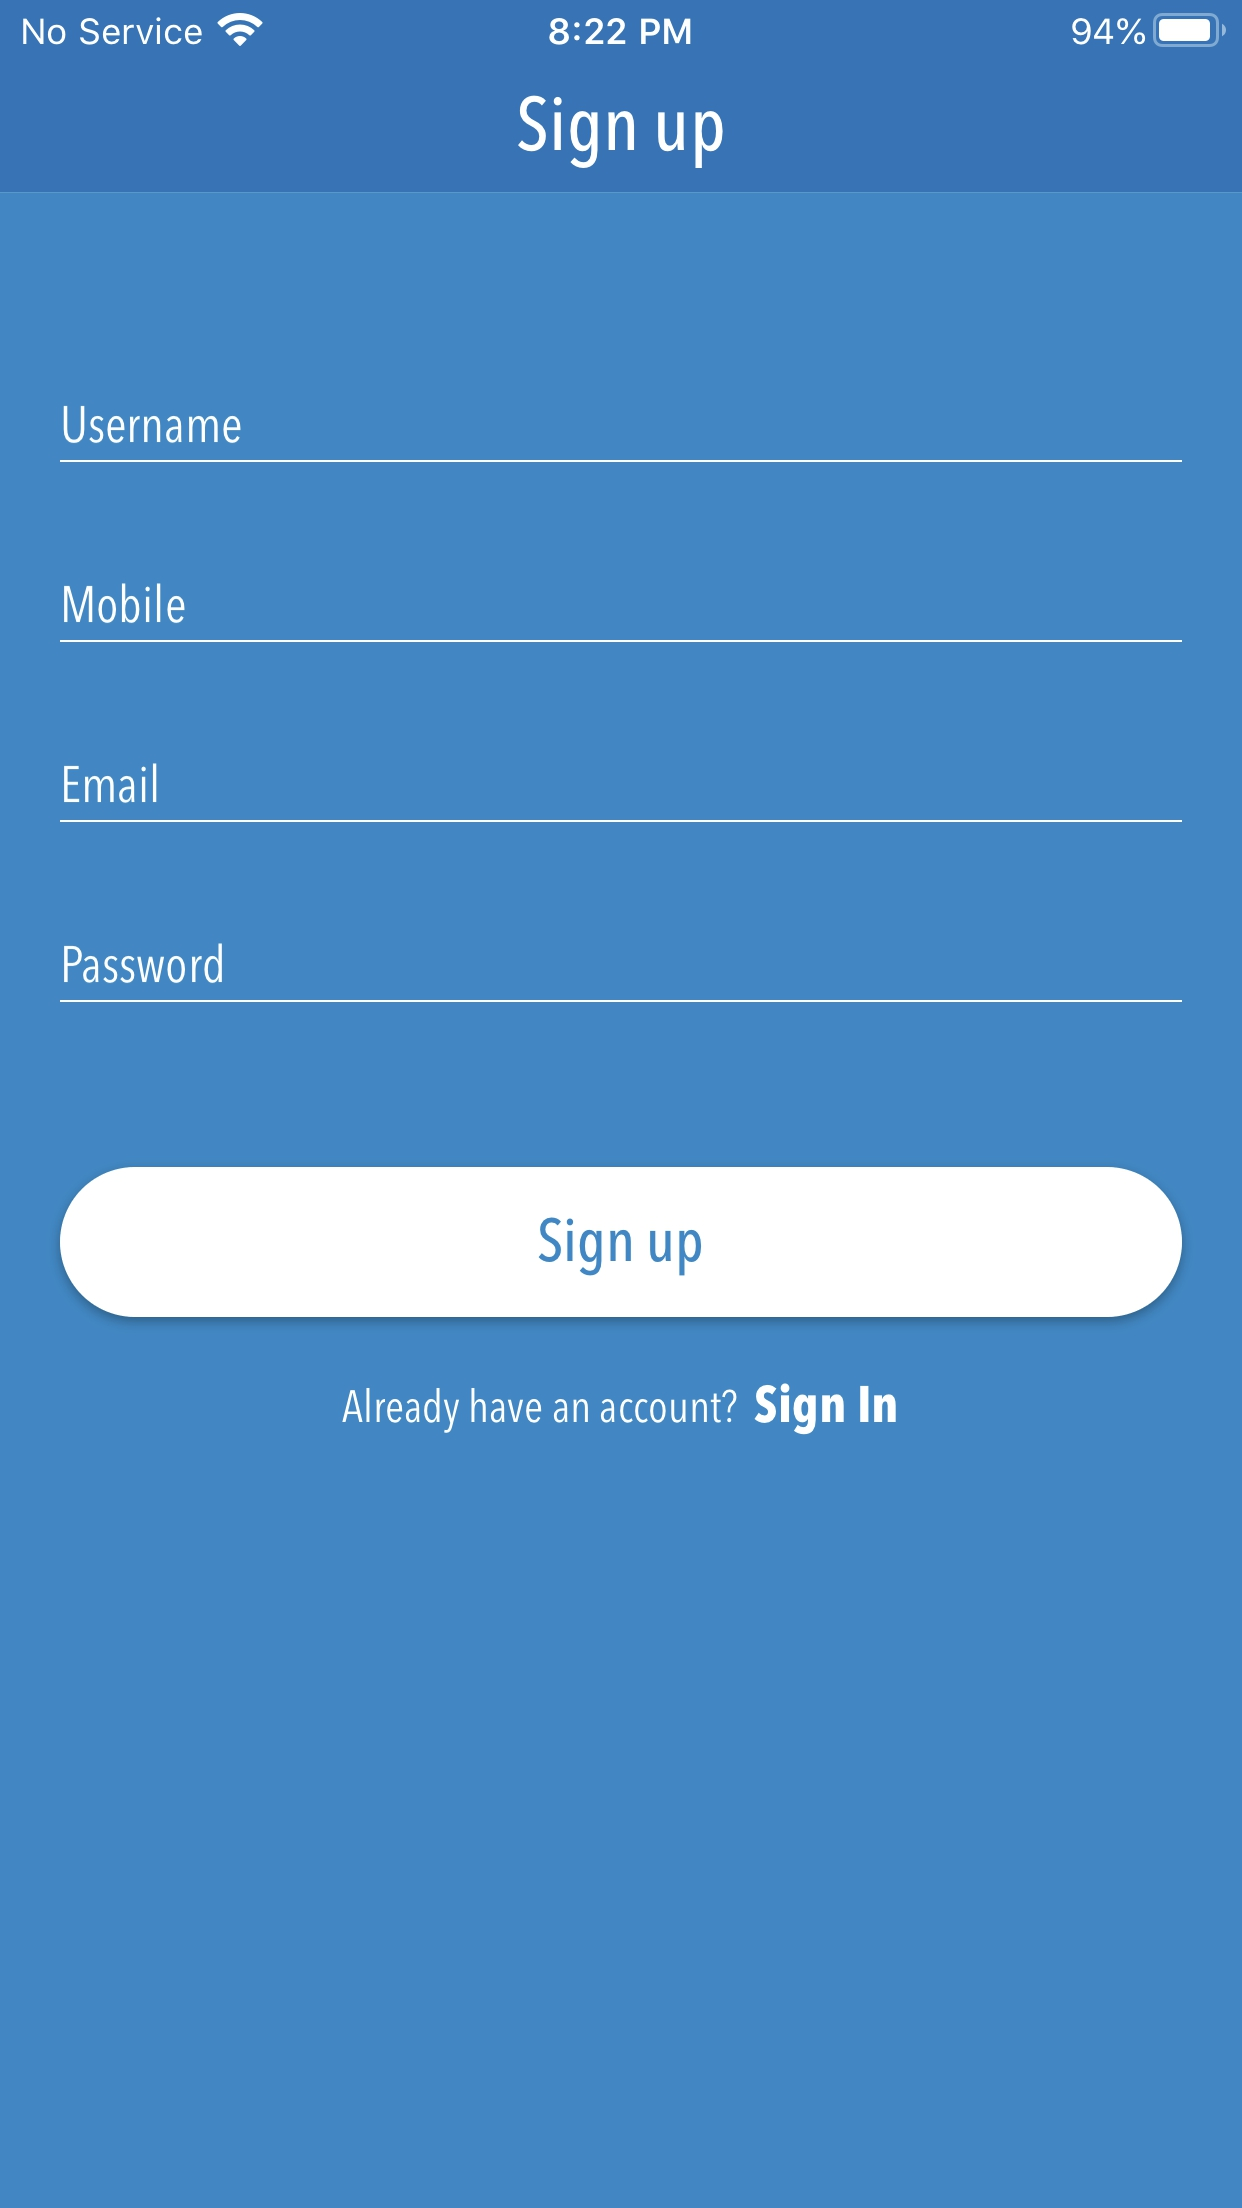EditText: (61, 582, 1181, 641), (61, 943, 1181, 1002), (61, 763, 1181, 822), (61, 405, 1181, 463)
Text: (343, 1388, 737, 1435), (519, 96, 723, 168), (754, 1382, 896, 1435), (64, 406, 241, 444), (64, 943, 221, 983), (64, 582, 187, 623), (64, 763, 158, 804)
TextButton: (61, 1166, 1181, 1318)
UpperTaskBar: (2, 2, 1242, 49)
